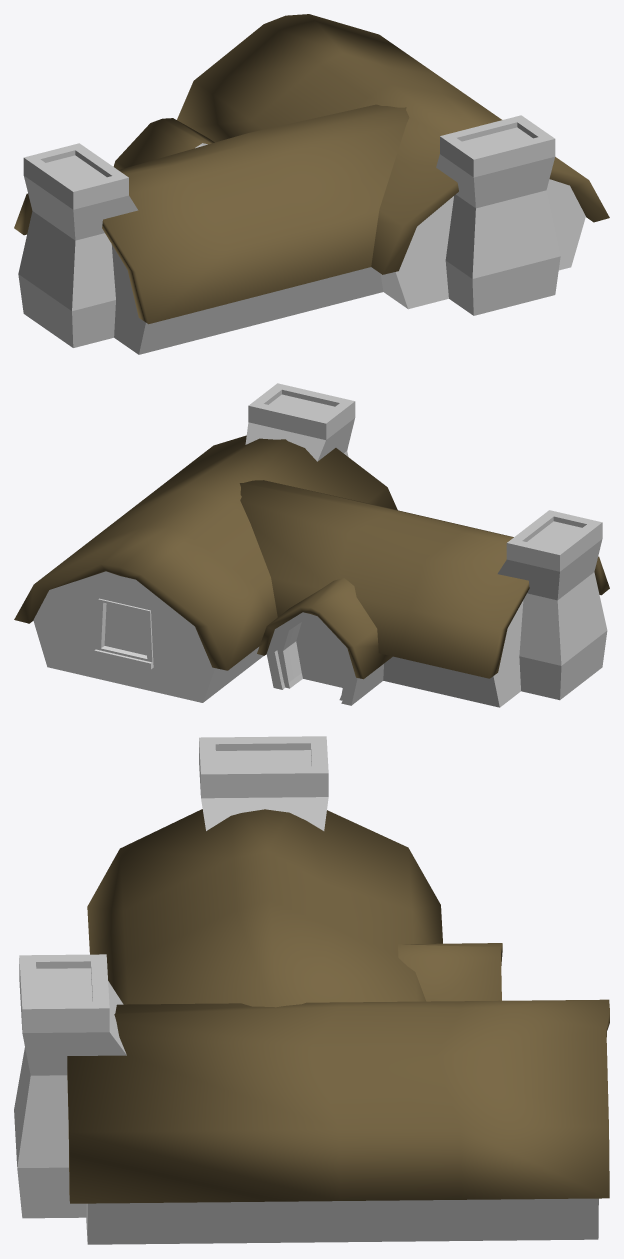
The model's file is Cottage.fbx.
3 renders of one model, top to bottom at view 1: azimuth 30°, elevation 25°; view 2: azimuth 150°, elevation 25°; view 3: azimuth 270°, elevation 25°, orthographic. The views are drawn at different scales.
Visible parts, largest first — view 1: Roof.002, Roof.001, Cottage_Chimney.001, Cottage_Chimney, Cottage Room.001, Cottage Room, Roof.003; view 2: Roof.002, Roof.001, Cottage Room, Cottage_Chimney, Cottage_Chimney.001, Cottage_Porch, Cottage Room.001, Roof.003; view 3: Roof.001, Roof.002, Cottage Room, Cottage_Chimney.001, Cottage_Chimney, Roof.003.
Boxes of the visible parts, x1,y1,x2,y2 form: Roof.002: (14,104,409,324); Roof.001: (177,14,609,274); Cottage_Chimney.001: (436,115,560,315); Cottage_Chimney: (18,143,138,347); Cottage Room.001: (111,244,383,354); Cottage Room: (380,179,585,309); Roof.003: (113,118,214,169); Roof.002: (239,480,609,678); Roof.001: (14,435,397,670); Cottage Room: (33,571,263,702); Cottage_Chimney: (497,510,607,700); Cottage_Chimney.001: (245,383,355,461); Cottage_Porch: (266,612,383,705); Cottage Room.001: (383,600,523,707); Roof.003: (257,578,392,679); Roof.001: (67,999,609,1203); Roof.002: (87,809,442,1007); Cottage Room: (86,1198,598,1244); Cottage_Chimney.001: (14,954,126,1218); Cottage_Chimney: (199,736,328,830); Roof.003: (398,943,502,1001).
Size of the model in its own units: 1195 by 361 by 933.
